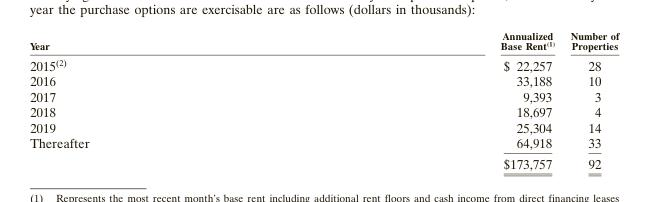table: (29, 29, 618, 171)
table column: (294, 29, 561, 171), (29, 29, 294, 171), (561, 29, 618, 171)
table column header: (29, 29, 618, 54)
table row: (29, 29, 618, 54), (29, 54, 618, 73), (29, 135, 618, 153), (29, 153, 618, 171), (29, 88, 618, 104), (29, 119, 618, 135), (29, 73, 618, 88), (29, 104, 618, 119)
